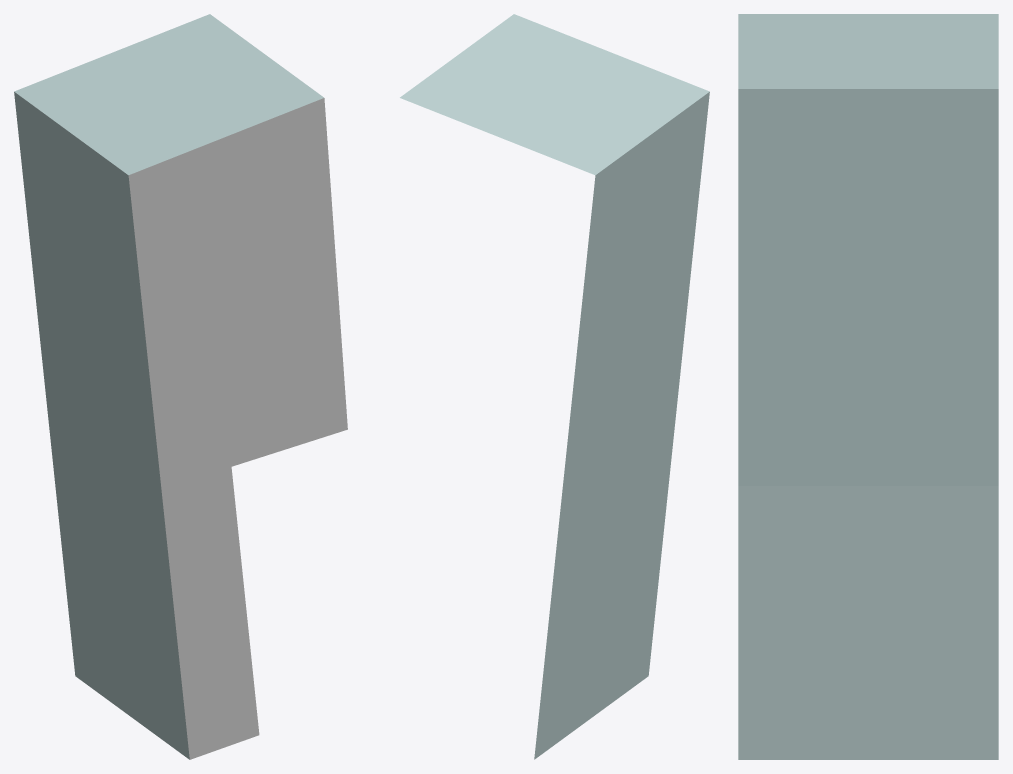
3 renders of one model, left to right at view 1: azimuth 30°, elevation 25°; view 2: azimuth 150°, elevation 25°; view 3: azimuth 270°, elevation 25°, orthographic. The views are drawn at different scales.
Visible parts, largest first — view 1: 0_2_1_0_2_1_2_2_3; view 2: 0_2_1_0_2_1_2_2_3; view 3: 0_2_1_0_2_1_2_2_3.
Part boxes in pixels (bbox=[...]): 0_2_1_0_2_1_2_2_3: bbox=[14, 14, 347, 759]; 0_2_1_0_2_1_2_2_3: bbox=[400, 14, 709, 759]; 0_2_1_0_2_1_2_2_3: bbox=[738, 14, 998, 759].
Size of the model in its own units: 3.32 by 9.1 by 3.
